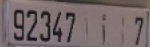2: (27, 9, 38, 42)
3: (40, 10, 51, 42)
4: (52, 10, 64, 41)
7: (65, 11, 76, 42), (134, 16, 144, 46)
9: (13, 9, 25, 42)
a: (100, 14, 106, 46)
